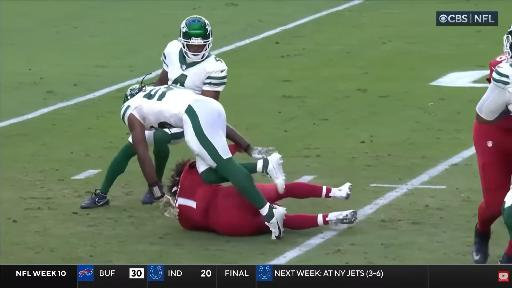Helmet: (179, 16, 212, 61), (124, 84, 146, 103), (504, 26, 511, 61)
Jersey: (175, 162, 241, 230), (121, 85, 205, 130), (162, 40, 227, 94), (175, 162, 222, 230), (477, 62, 511, 120), (487, 54, 506, 83)
Player: (121, 85, 285, 238), (472, 27, 511, 263), (161, 160, 268, 236), (153, 16, 227, 100), (502, 185, 511, 241)
